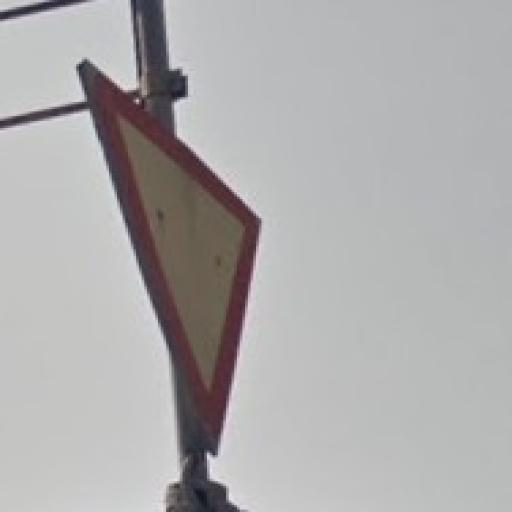traffic_sign: (80, 61, 265, 459)
